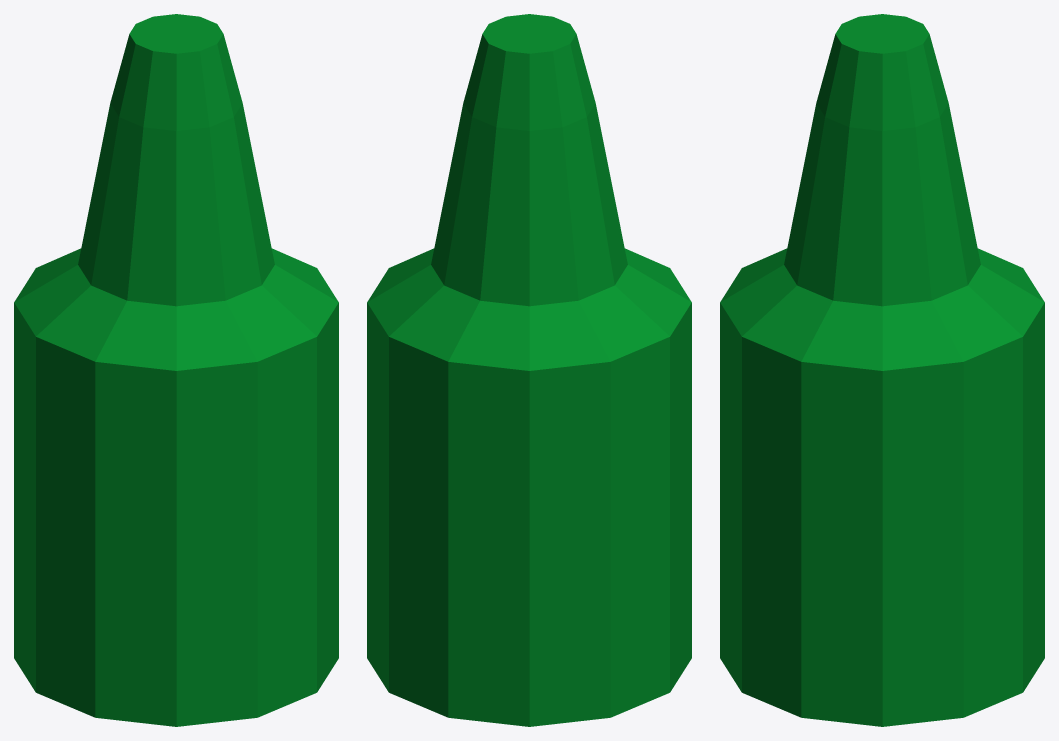
File: bottle.fbx
3 views of the same model, side by side, from view 1: azimuth 30°, elevation 25°; view 2: azimuth 150°, elevation 25°; view 3: azimuth 270°, elevation 25° (orthographic).
Visible parts, largest first — view 1: Cylinder.001; view 2: Cylinder.001; view 3: Cylinder.001.
Boxes of the visible parts, x1,y1,x2,y2 form: Cylinder.001: (14, 14, 338, 726); Cylinder.001: (367, 14, 691, 726); Cylinder.001: (720, 14, 1044, 726).
Bounding box in the file's own units: 12.2 × 25.89 × 12.2.
